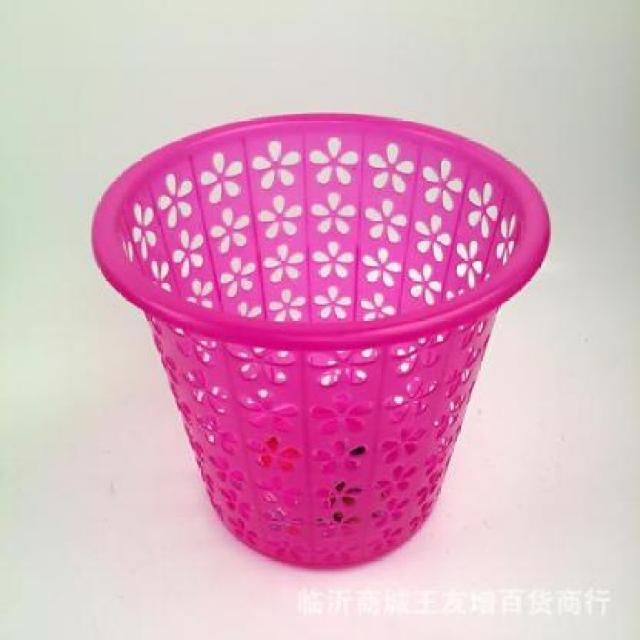dustbin: (83, 106, 559, 574)
